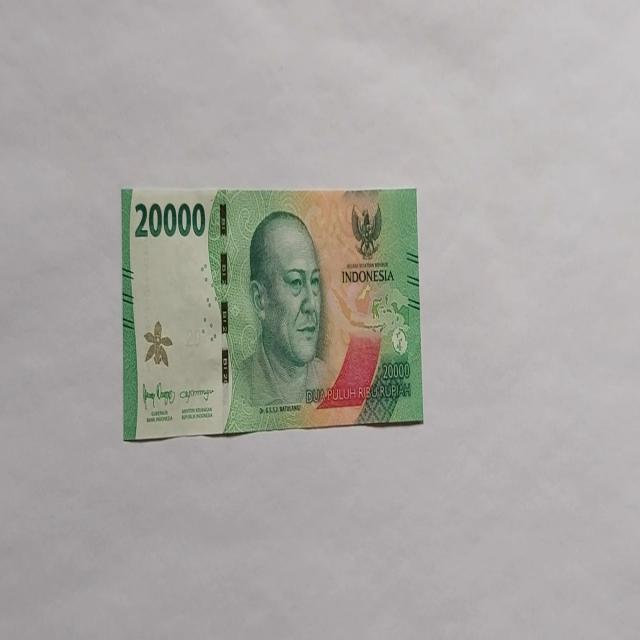dua puluh ribu rupiah: (120, 184, 424, 442)
